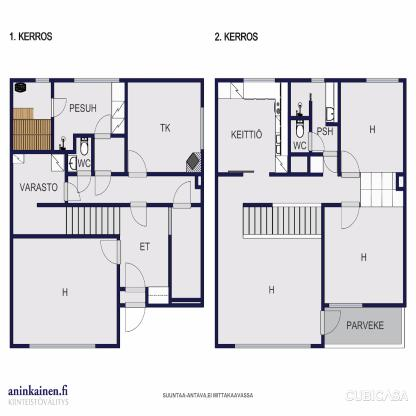door: (124, 262, 147, 332), (99, 238, 122, 266), (172, 180, 193, 209), (320, 310, 343, 336), (342, 150, 361, 181), (340, 203, 361, 230), (323, 150, 342, 178), (128, 149, 146, 178), (50, 98, 70, 123), (94, 170, 113, 196), (130, 202, 147, 226), (93, 115, 111, 136), (308, 131, 326, 152), (76, 171, 92, 193), (64, 183, 80, 204)
window: (27, 341, 97, 350), (73, 78, 119, 84), (235, 344, 310, 347), (200, 106, 205, 150), (244, 76, 275, 83), (366, 78, 398, 84), (329, 304, 364, 309), (310, 77, 326, 86), (35, 77, 50, 82)
zone: (218, 152, 405, 338), (13, 237, 118, 344), (67, 204, 170, 306), (324, 209, 404, 304), (127, 81, 202, 174), (218, 82, 290, 172), (342, 82, 403, 172), (14, 154, 68, 233), (67, 174, 203, 203), (55, 82, 111, 145), (292, 82, 338, 152), (323, 304, 402, 343), (171, 206, 203, 298), (12, 80, 52, 152), (93, 136, 125, 172), (68, 135, 92, 169)
